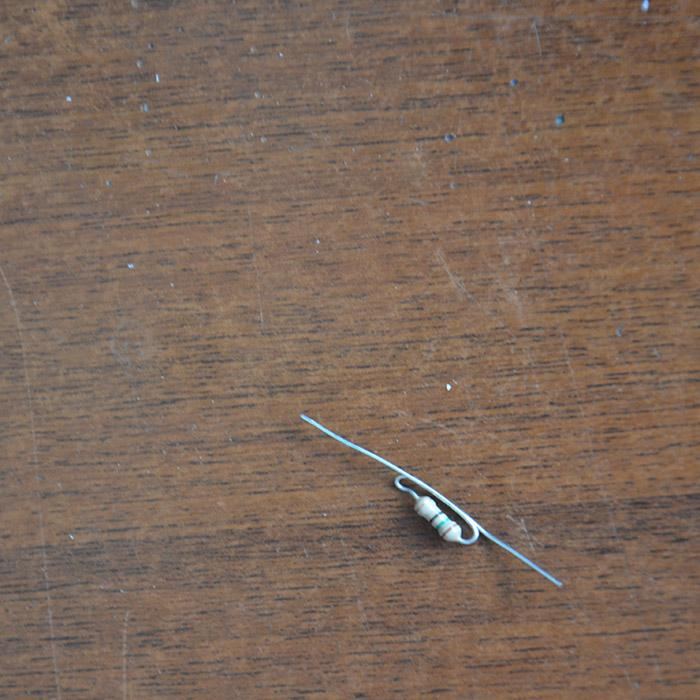resistor: (412, 493, 462, 541)
